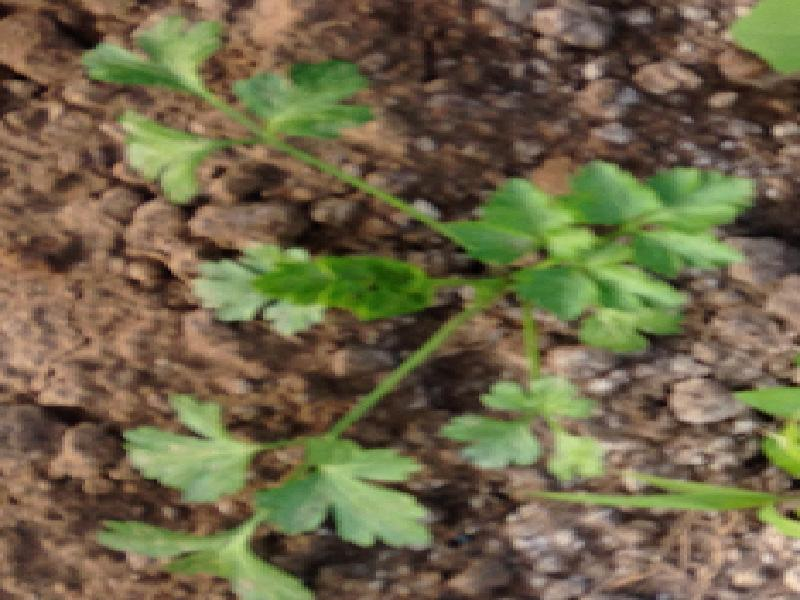radish: (19, 13, 764, 547)
